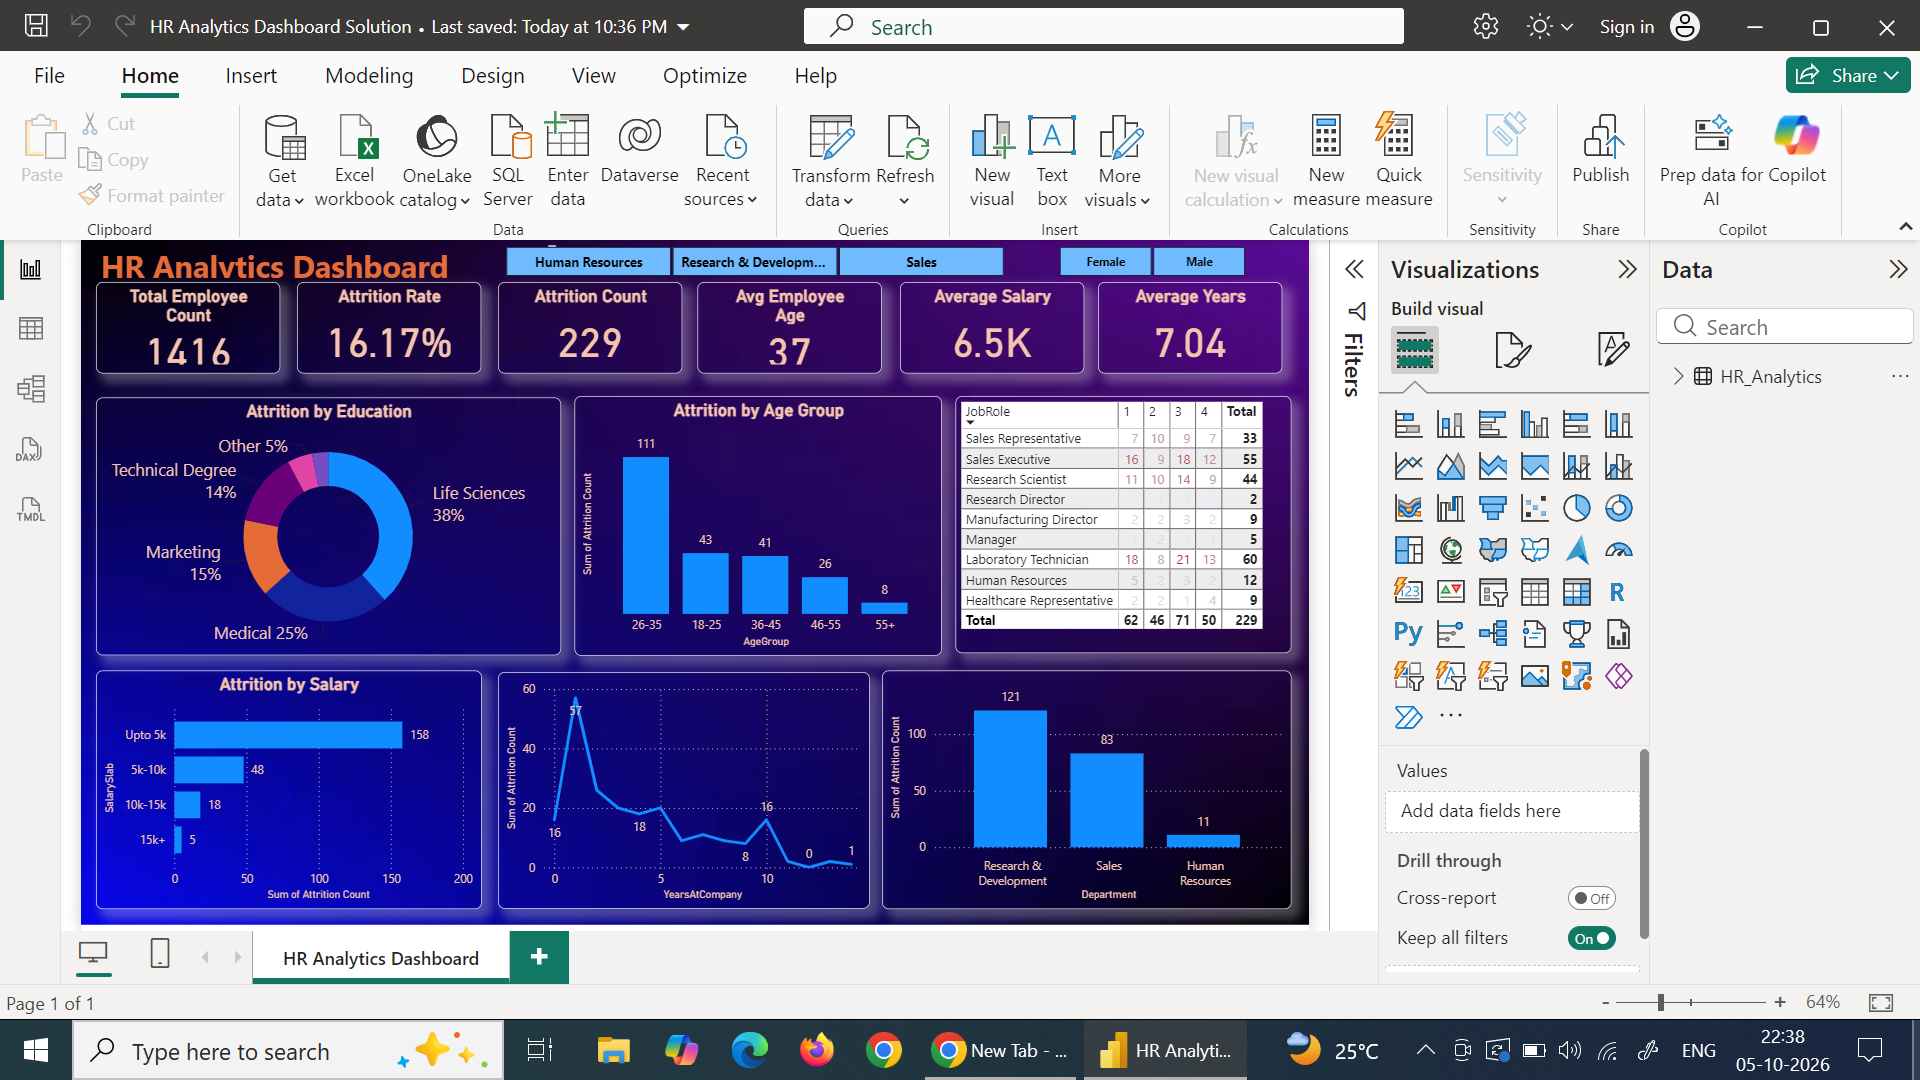

What the dashboard file says about the page in this screenshot:
{"tool":"powerbi","page":{"name":"HR Analytics Dashboard","canvas":[1280,720],"ordinal":0},"visuals":[{"type":"card","title":"Total Employee Count","fields":{"Values":["HR_Analytics.Total Employees"]},"box":[15.6,43,192.2,95.3],"z":0},{"type":"card","title":"Attrition Rate","fields":{"Values":["Avg(HR_Analytics.Attrition Rate)"]},"box":[225.1,43,192.2,95.3],"z":1000},{"type":"card","title":"Average Salary","fields":{"Values":["Avg(HR_Analytics.MonthlyIncome)"]},"box":[853.4,43,192.2,95.3],"z":2000},{"type":"card","title":"Attrition Count","fields":{"Values":["HR_Analytics.Employees Left"]},"box":[434.5,43,192.2,95.3],"z":3000},{"type":"card","title":"Avg Employee Age","fields":{"Values":["Avg(HR_Analytics.Age)"]},"box":[642.4,43,192.2,95.3],"z":4000},{"type":"card","title":"Average Years","fields":{"Values":["Avg(HR_Analytics.YearsAtCompany)"]},"box":[1059.7,43,192.2,95.3],"z":5000},{"type":"donutChart","title":"Attrition by Education","fields":{"Category":["HR_Analytics.EducationField"],"Y":["Sum(HR_Analytics.Attrition Count)"]},"box":[15.6,164.1,484.5,268.8],"z":6000},{"type":"clusteredColumnChart","title":"Attrition by Age Group","fields":{"Category":["HR_Analytics.AgeGroup"],"Y":["Sum(HR_Analytics.Attrition Count)"]},"box":[514.2,162.6,382.9,270.4],"z":7000},{"type":"clusteredBarChart","title":"Attrition by Salary","fields":{"Category":["HR_Analytics.SalarySlab"],"Y":["Sum(HR_Analytics.Attrition Count)"]},"box":[15.6,448.6,401.7,248.5],"z":8000},{"type":"pivotTable","title":"Attrition by Salary","fields":{"Columns":["HR_Analytics.JobSatisfaction"],"Rows":["HR_Analytics.JobRole"],"Values":["Sum(HR_Analytics.Attrition Count)"]},"box":[912,162.6,350,268],"z":9000},{"type":"lineChart","title":"Attrition by Salary","fields":{"Category":["HR_Analytics.YearsAtCompany"],"Y":["Sum(HR_Analytics.Attrition Count)"]},"box":[434.5,450.1,387.6,247],"z":10000},{"type":"clusteredColumnChart","title":"Attrition by Salary","fields":{"Category":["HR_Analytics.Department"],"Y":["Sum(HR_Analytics.Attrition Count)"]},"box":[834.6,448.6,426.7,248.5],"z":11000},{"type":"textbox","box":[15.9,0,484.1,44.4],"z":12000},{"type":"slicer","fields":{"Values":["HR_Analytics.Department"]},"box":[417.5,0,568.3,44.4],"z":13000},{"type":"slicer","fields":{"Values":["HR_Analytics.Gender"]},"box":[993.7,0,242.9,44.4],"z":14000}]}

Visuals, with their boxes in screenshot pixels (x1, y1, x2, y2):
"Total Employee Count" card: <region>73, 44, 357, 185</region>
"Attrition Rate" card: <region>383, 44, 667, 185</region>
"Average Salary" card: <region>1312, 44, 1597, 185</region>
"Attrition Count" card: <region>693, 44, 977, 185</region>
"Avg Employee Age" card: <region>1000, 44, 1285, 185</region>
"Average Years" card: <region>1618, 44, 1902, 185</region>
"Attrition by Education" donutChart: <region>73, 223, 790, 620</region>
"Attrition by Age Group" clusteredColumnChart: <region>811, 221, 1377, 621</region>
"Attrition by Salary" clusteredBarChart: <region>73, 644, 667, 1011</region>
"Attrition by Salary" pivotTable: <region>1399, 221, 1917, 617</region>
"Attrition by Salary" lineChart: <region>693, 646, 1266, 1011</region>
"Attrition by Salary" clusteredColumnChart: <region>1285, 644, 1916, 1011</region>
textbox: <region>74, 0, 790, 46</region>
slicer - HR_Analytics.Department: <region>668, 0, 1508, 46</region>
slicer - HR_Analytics.Gender: <region>1520, 0, 1879, 46</region>
